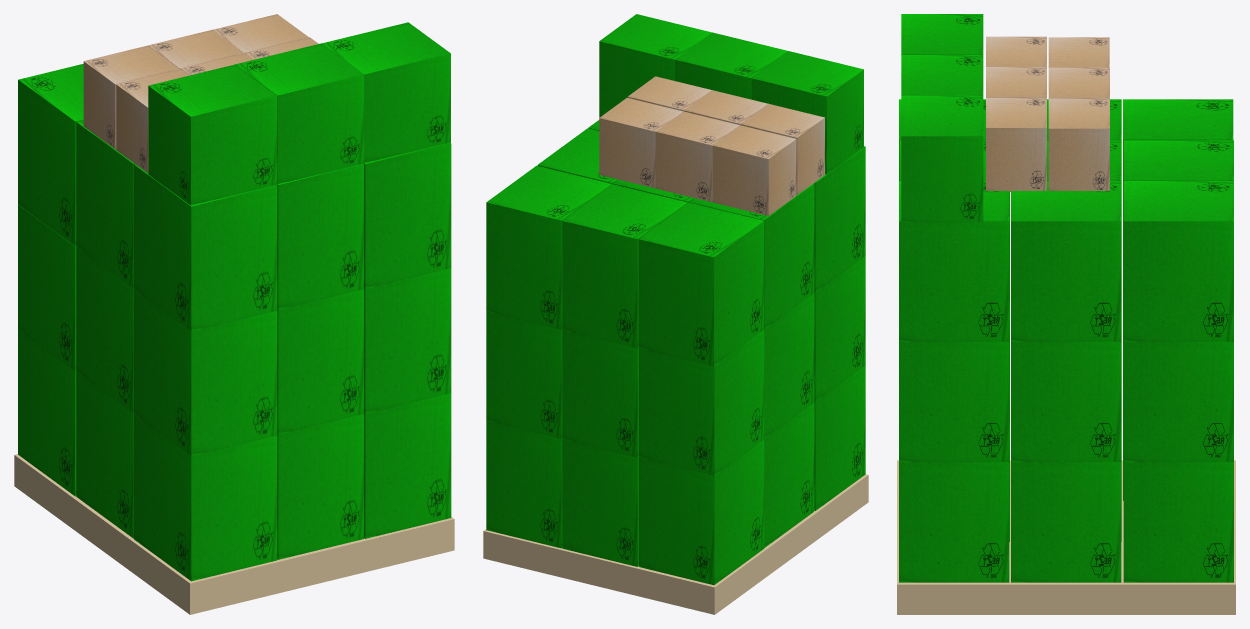
The picture shows the model from 3 angles, left to right: view 1: azimuth 30°, elevation 25°; view 2: azimuth 150°, elevation 25°; view 3: azimuth 270°, elevation 25°; orthographic projection. The views are drawn at different scales.
Visible parts, largest first — view 1: Куб.7 (×10), Куб.5 (×3), Куб.10 (×3), Куб.4 (×3), Куб.1 (×3), 5.1, Куб.2 (×2); view 2: Куб.7 (×10), Куб.6 (×3), Куб.8 (×3), Куб.2 (×2), Куб.1 (×3), Куб.5 (×3), 5.1, Куб.9; view 3: Куб.8 (×3), Куб.9 (×3), Куб.7 (×10), Куб.10 (×3), 5.1, Куб.6, Куб.3, Куб.1.
Boxes of the visible parts, x1,y1,x2,y2 form: Куб.7 (×10): (18, 14, 450, 246); Куб.5 (×3): (134, 164, 277, 581); Куб.10 (×3): (364, 142, 451, 538); Куб.4 (×3): (277, 163, 363, 559); Куб.1 (×3): (76, 120, 134, 538); 5.1: (14, 454, 454, 614); Куб.2 (×2): (18, 204, 76, 496); Куб.7 (×10): (599, 14, 863, 366); Куб.6 (×3): (562, 184, 687, 566); Куб.8 (×3): (486, 165, 611, 548); Куб.2 (×2): (639, 330, 764, 585); Куб.1 (×3): (689, 183, 814, 547); Куб.5 (×3): (814, 146, 865, 510); 5.1: (483, 474, 868, 614); Куб.9: (537, 128, 617, 184); Куб.8 (×3): (1123, 181, 1233, 582); Куб.9 (×3): (1011, 181, 1121, 582); Куб.7 (×10): (901, 14, 1233, 260); Куб.10 (×3): (899, 181, 1009, 582); 5.1: (897, 460, 1235, 614); Куб.6: (1123, 140, 1233, 180); Куб.3: (1047, 140, 1121, 300); Куб.1: (1047, 99, 1121, 140).
Bounding box in the file's own units: 200 × 358 × 230.
Materials: 3 (2 with a texture image).
